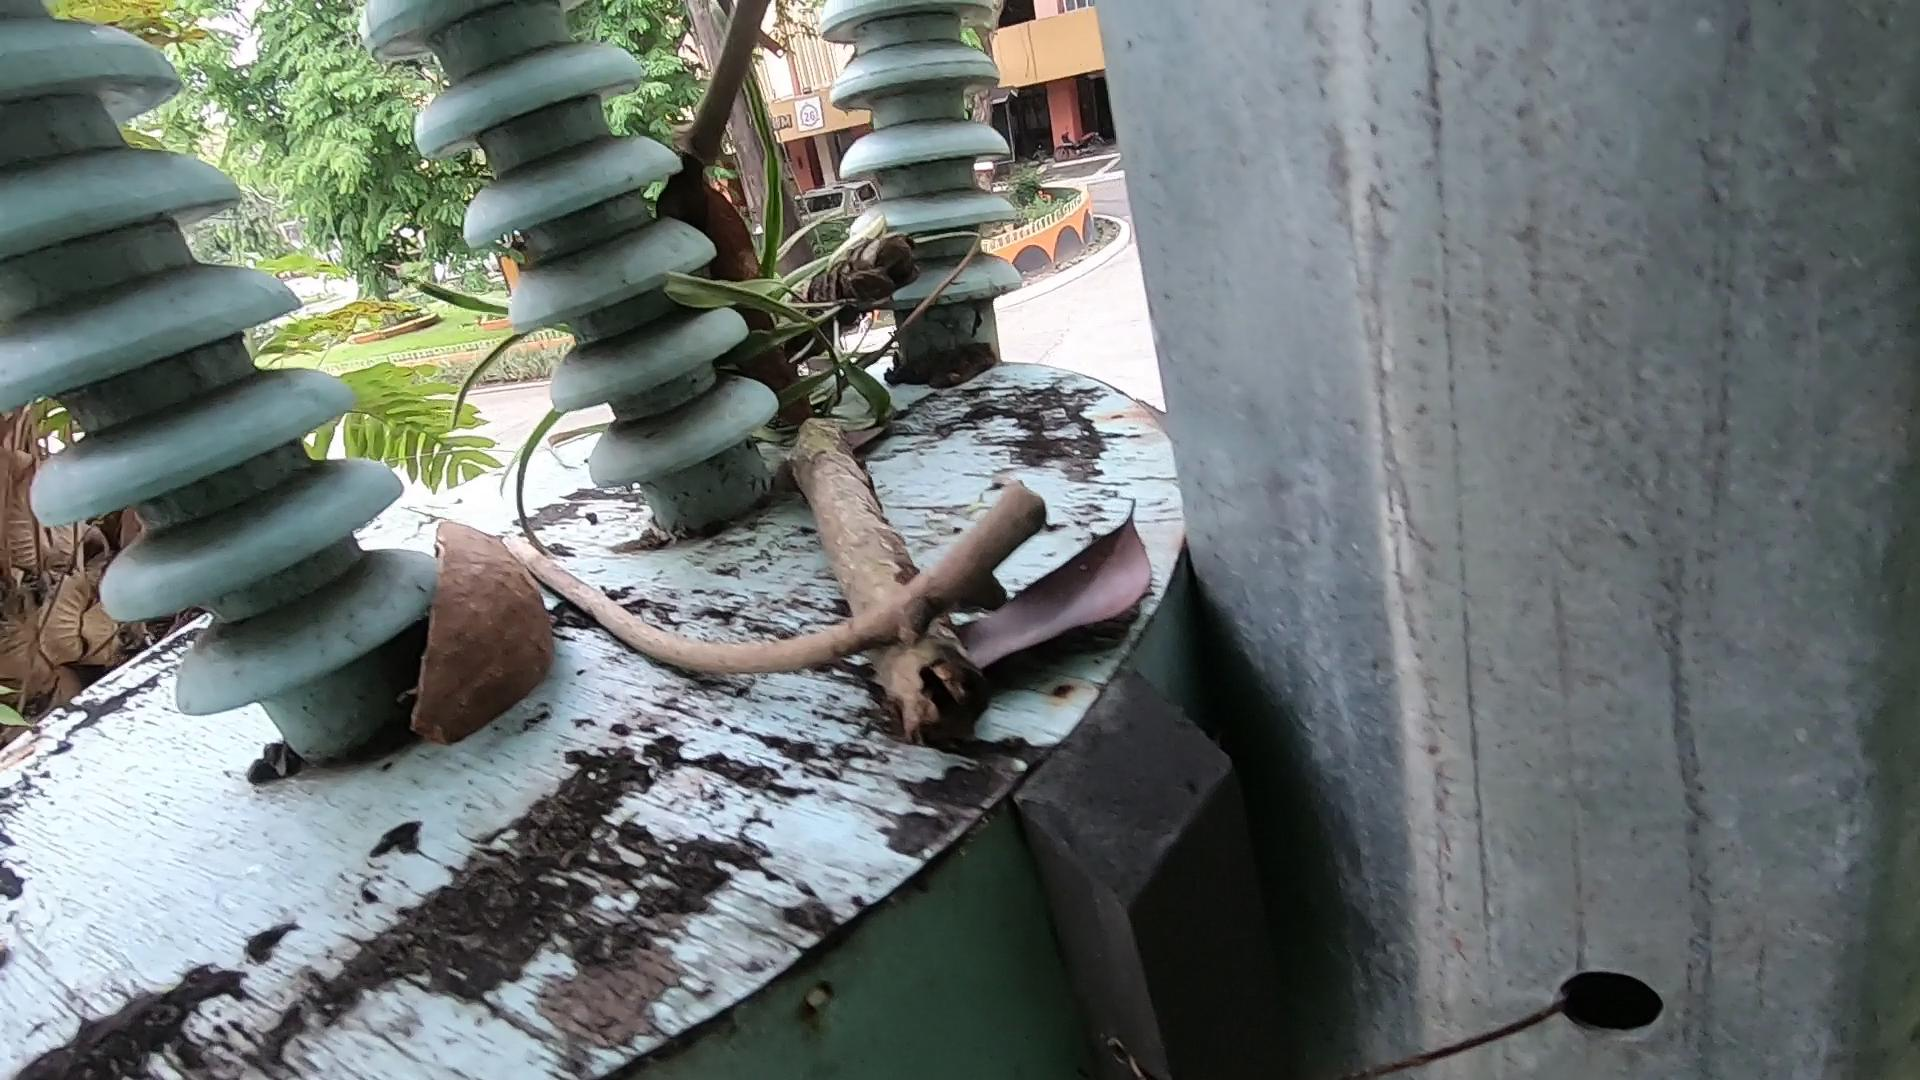branch with leaves: (601, 123, 1029, 793)
leaf: (928, 471, 1284, 782)
mahogany fruit: (339, 467, 628, 761), (674, 169, 889, 465)
tree branch: (473, 496, 1237, 738), (633, 1, 824, 140)
